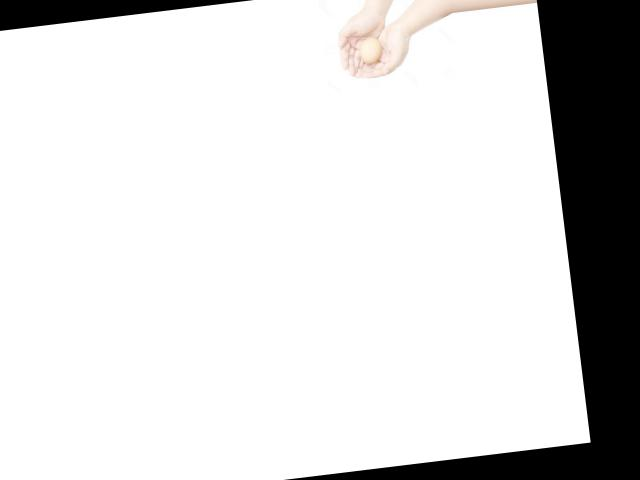egg: (359, 36, 383, 63)
